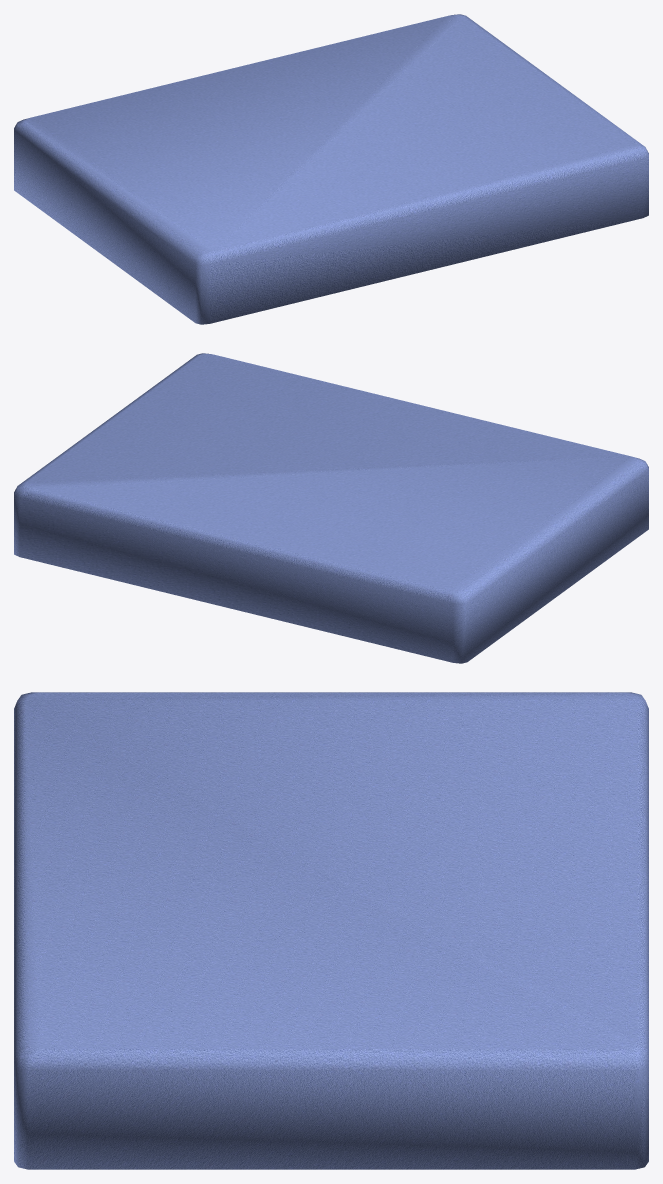
The model's file is Table.fbx.
3 renders of one model, top to bottom at view 1: azimuth 30°, elevation 25°; view 2: azimuth 150°, elevation 25°; view 3: azimuth 270°, elevation 25°, orthographic. The views are drawn at different scales.
Parts seen in each view (by area): view 1: Table; view 2: Table; view 3: Table.
Boxes of the visible parts, <box> form: Table: <box>14,14,648,324</box>; Table: <box>14,353,648,663</box>; Table: <box>14,692,648,1169</box>.
Size of the model in its own units: 3931 by 564 by 2852.
